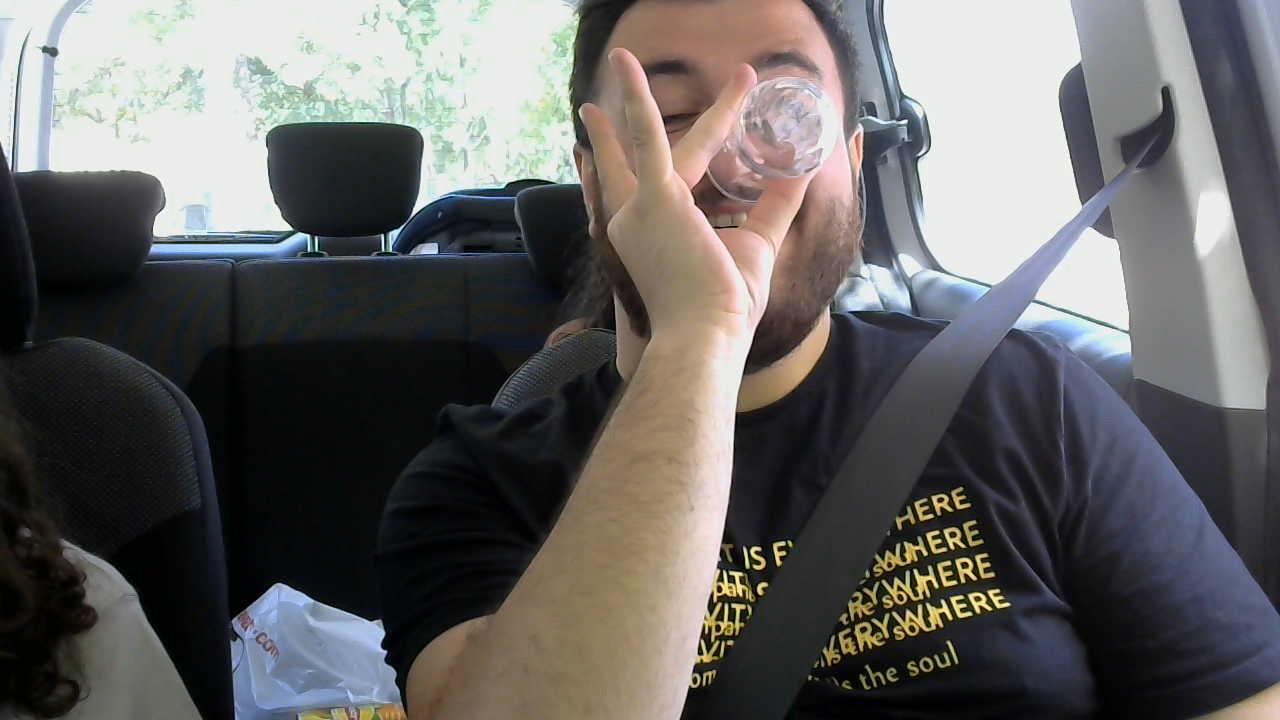Drinking: (576, 0, 862, 365)
